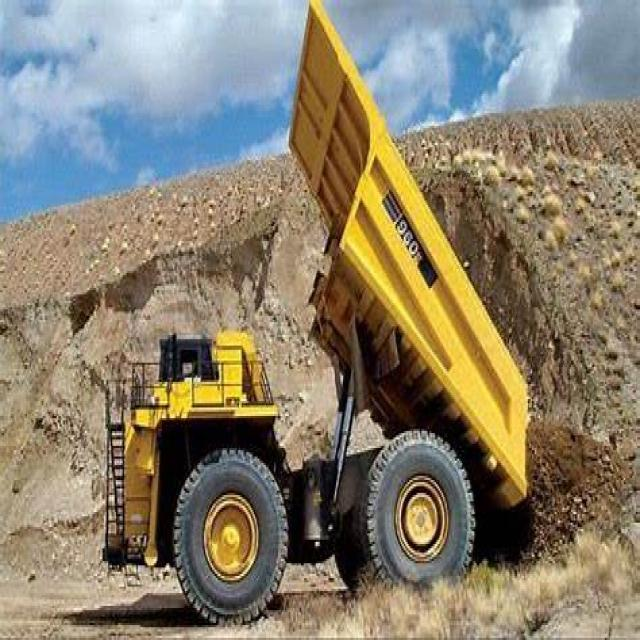dump_truck: (81, 0, 532, 625)
